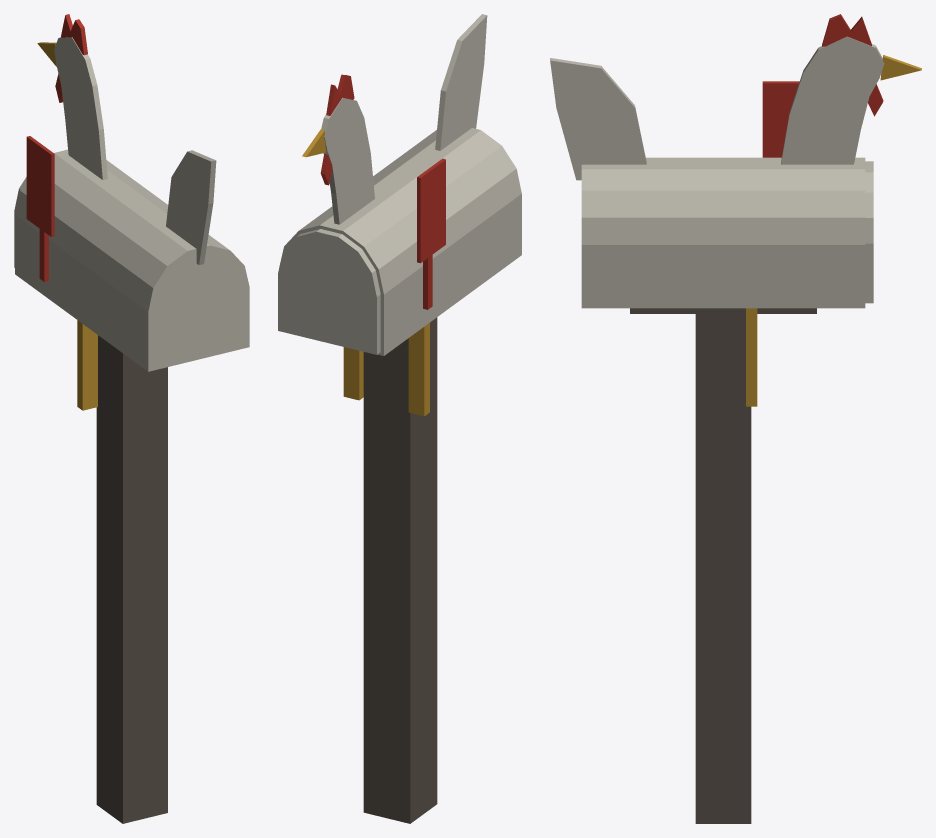
The model's file is mailbox-chicken.glb.
3 renders of one model, left to right at view 1: azimuth 30°, elevation 25°; view 2: azimuth 150°, elevation 25°; view 3: azimuth 270°, elevation 25°, orthographic. The views are drawn at different scales.
Visible parts, largest first — view 1: MailboxChicken, Flag; view 2: MailboxChicken, Flag; view 3: MailboxChicken, Flag.
Boxes of the visible parts, box(x1,y1,x2,y2) form: MailboxChicken: box(14, 14, 249, 823); Flag: box(26, 136, 54, 281); MailboxChicken: box(278, 14, 521, 823); Flag: box(417, 158, 445, 309); MailboxChicken: box(550, 14, 921, 823); Flag: box(762, 81, 799, 157).
Bounding box in the file's own units: 0.2235 × 1.41 × 0.596.
